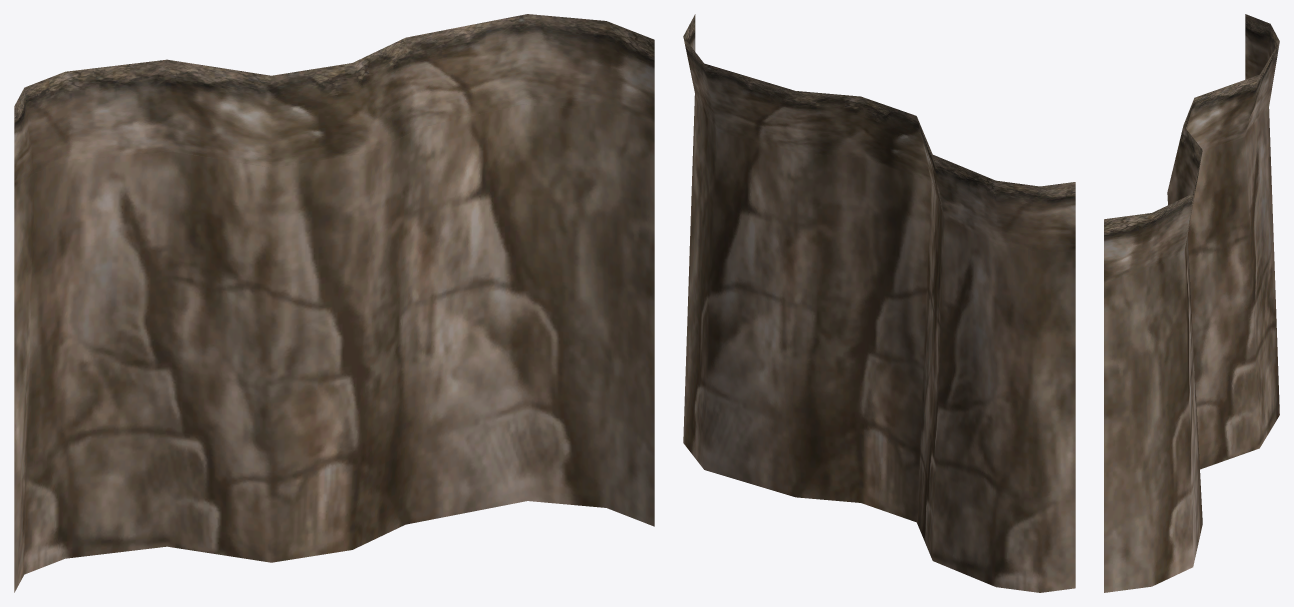
Rendered from OVERHILL_A_01_LINE120.fbx.
The picture shows the model from 3 angles, left to right: view 1: azimuth 30°, elevation 25°; view 2: azimuth 150°, elevation 25°; view 3: azimuth 270°, elevation 25°; orthographic projection. The views are drawn at different scales.
Visible parts, largest first — view 1: OVERHILL_A_01_LINE120; view 2: OVERHILL_A_01_LINE120; view 3: OVERHILL_A_01_LINE120.
Part boxes in pixels (x1,y1,x2,y2): OVERHILL_A_01_LINE120: (14, 14, 654, 592); OVERHILL_A_01_LINE120: (683, 14, 1075, 592); OVERHILL_A_01_LINE120: (1104, 14, 1279, 592).
Bounding box in the file's own units: 42193 × 35835 × 15272.
Materials: 2 (2 with a texture image).
